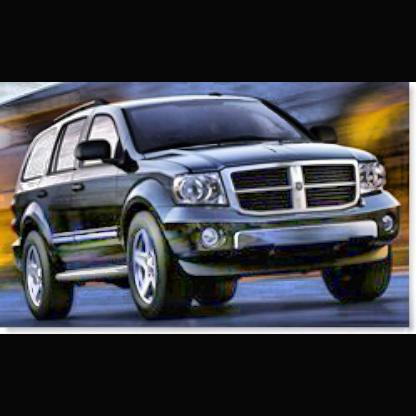Dodge Durango SUV 2007: (15, 92, 404, 319)
